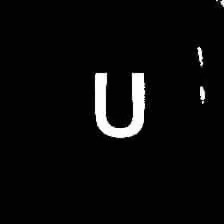LTR_U: (87, 65, 152, 140)
